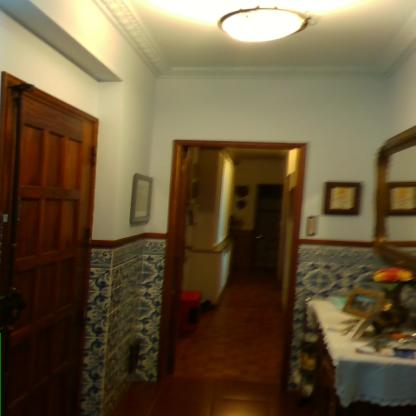open: (152, 136, 313, 398)
